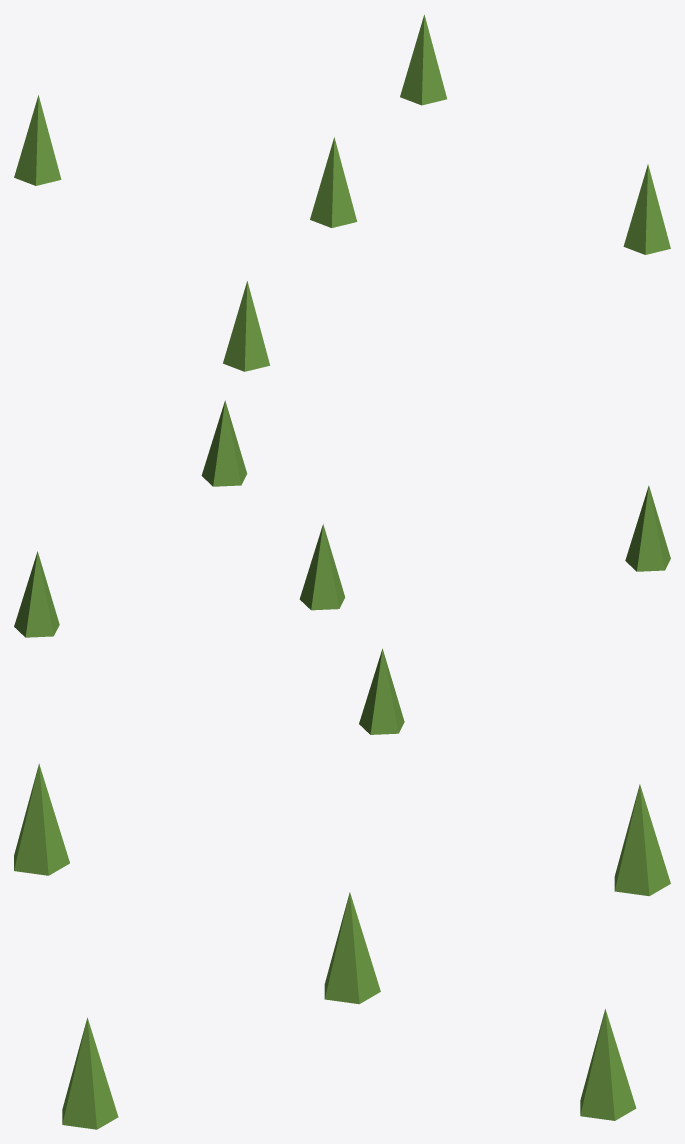
Rendered from crop_sprout.glb.
The picture shows the model from 3 angles, top to bottom: view 1: azimuth 30°, elevation 25°; view 2: azimuth 150°, elevation 25°; view 3: azimuth 270°, elevation 25°; orthographic projection. The views are drawn at different scales.
Parts seen in each view (by area): view 1: crop_sprout; view 2: crop_sprout; view 3: crop_sprout.
Part boxes in pixels (x1,y1,x2,y2): crop_sprout: (14,14,670,371); crop_sprout: (14,400,670,734); crop_sprout: (14,763,670,1129).
Size of the model in its own units: 0.9556 by 0.16 by 0.9514.
